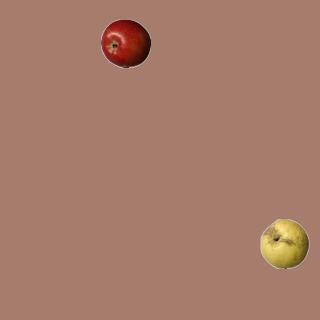Apple Braeburn: (100, 18, 150, 68)
Apple Golden 1: (259, 218, 309, 268)
